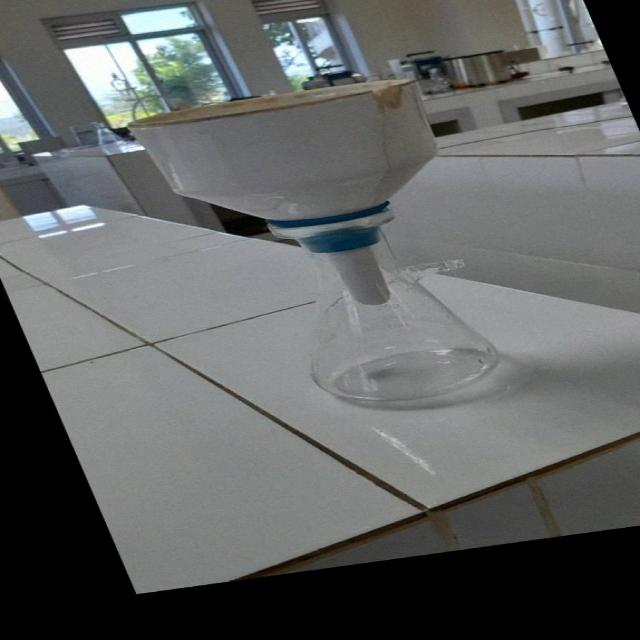Bunchen funnel: (92, 67, 540, 334)
